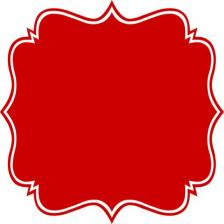red: (19, 42, 210, 182)
